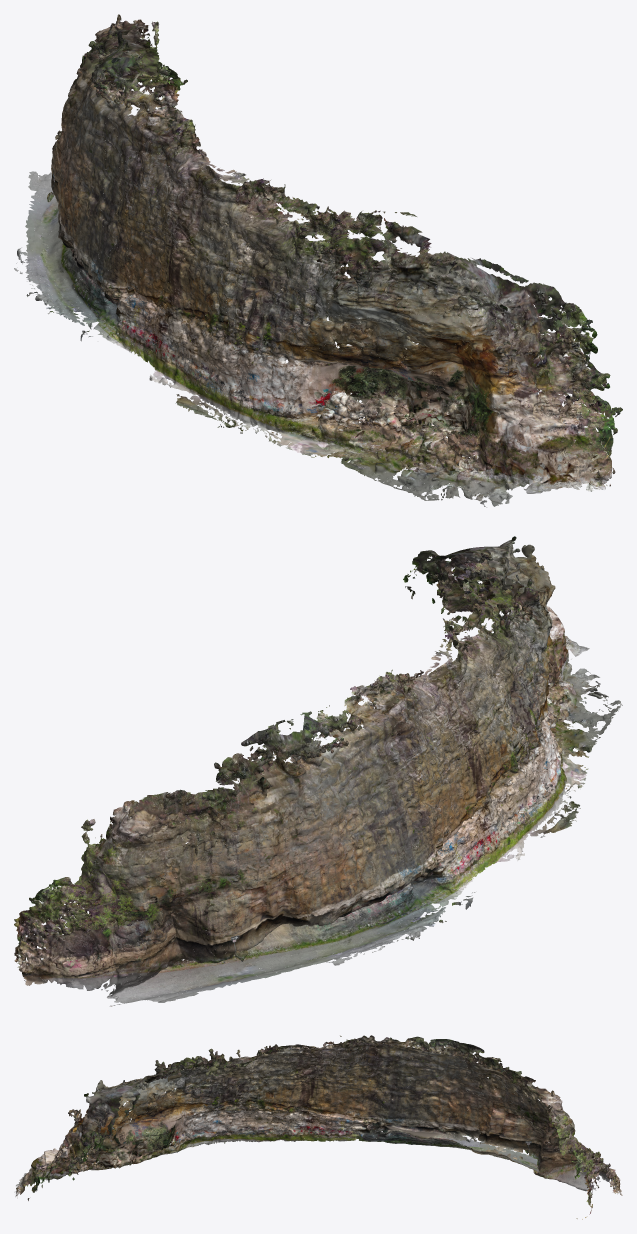
The model's file is SunsetRock.glb.
The picture shows the model from 3 angles, top to bottom: view 1: azimuth 30°, elevation 25°; view 2: azimuth 150°, elevation 25°; view 3: azimuth 270°, elevation 25°; orthographic projection. The views are drawn at different scales.
Visible parts, largest first — view 1: odm_textured_model_geo; view 2: odm_textured_model_geo; view 3: odm_textured_model_geo.
Boxes of the visible parts, box(x1,y1,x2,y2) form: odm_textured_model_geo: box(14, 14, 622, 507); odm_textured_model_geo: box(14, 536, 622, 1006); odm_textured_model_geo: box(14, 1035, 622, 1219).
Size of the model in its own units: 35.91 by 25.69 by 106.
Materials: 49 (49 with a texture image).
